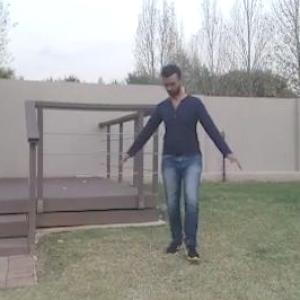land: (126, 56, 230, 273)
